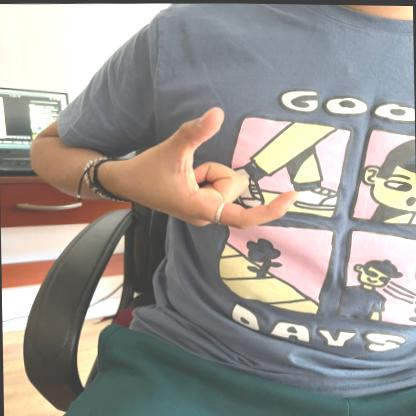G: (126, 97, 300, 235)
